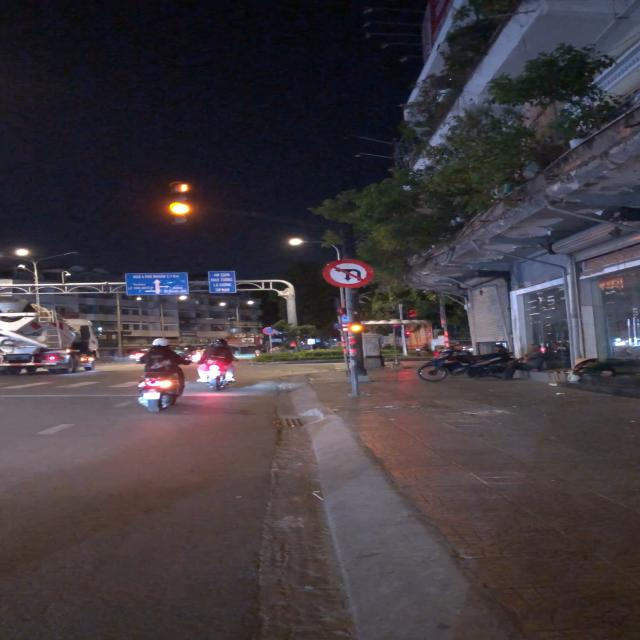Bien bao cam re trai va quay dau: (320, 257, 376, 289)
